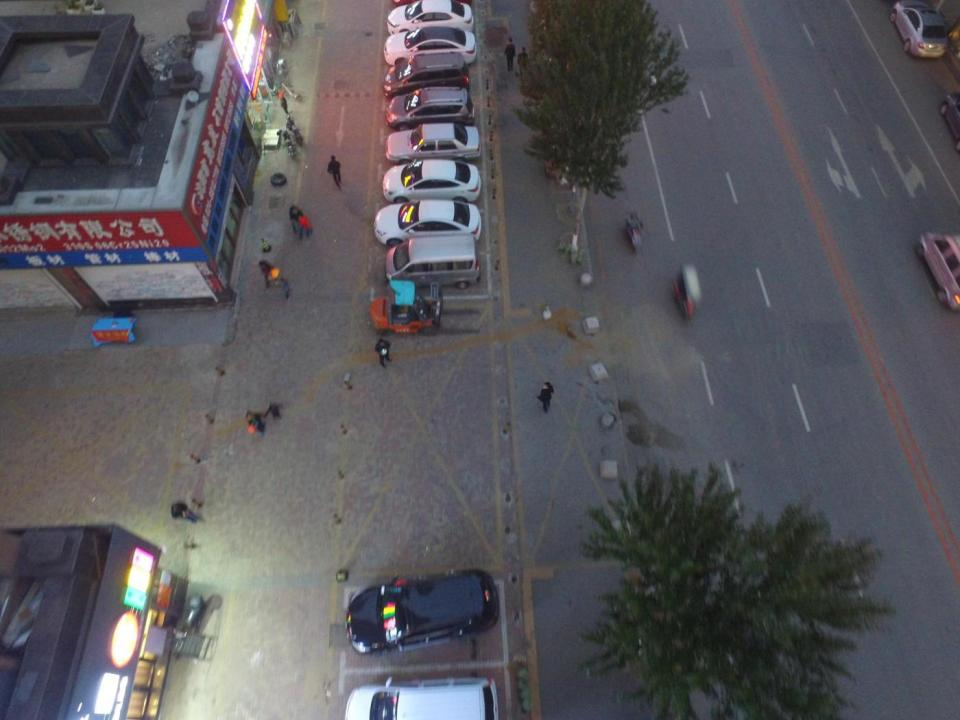car: (341, 569, 494, 653), (373, 200, 482, 242), (383, 53, 471, 96), (915, 227, 960, 311), (382, 162, 480, 200), (386, 87, 476, 128), (385, 123, 482, 160), (891, 1, 950, 61), (383, 29, 478, 66), (387, 1, 474, 36)
van: (345, 673, 499, 720), (386, 238, 480, 288)
